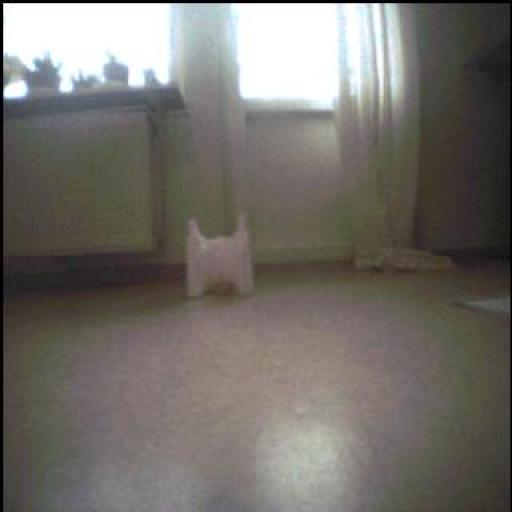Basket: (208, 270, 240, 302)
